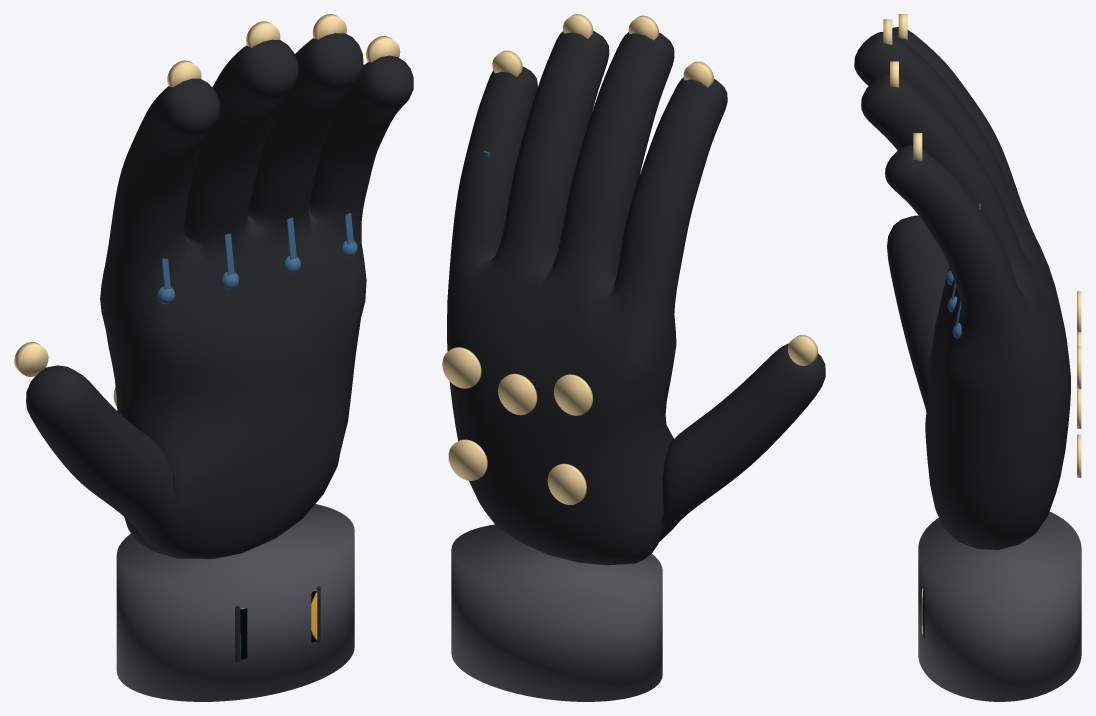
Rendered from LunaSense.glb.
3 views of the same model, side by side, from view 1: azimuth 30°, elevation 25°; view 2: azimuth 150°, elevation 25°; view 3: azimuth 270°, elevation 25° (orthographic). The views are drawn at different scales.
Parts seen in each view (by area): view 1: GloveShell, Cuff, Haptic4, HubScreen, Haptic3, Haptic0, Haptic2, Haptic1; view 2: GloveShell, Cuff, Pressure1, Pressure4, Pressure0, Pressure3, Pressure2, Haptic4, Haptic3; view 3: GloveShell, Cuff.
Part boxes in pixels (left/top/right/bottom): GloveShell: left=26, top=33, right=413, bottom=558; Cuff: left=116, top=504, right=354, bottom=701; Haptic4: left=14, top=342, right=48, bottom=376; HubScreen: left=240, top=590, right=317, bottom=659; Haptic3: left=366, top=36, right=400, bottom=62; Haptic0: left=167, top=60, right=201, bottom=87; Haptic2: left=312, top=14, right=346, bottom=39; Haptic1: left=246, top=21, right=280, bottom=47; GloveShell: left=447, top=31, right=825, bottom=565; Cuff: left=451, top=524, right=662, bottom=701; Pressure1: left=448, top=439, right=487, bottom=480; Pressure4: left=442, top=347, right=481, bottom=388; Pressure0: left=547, top=463, right=586, bottom=504; Pressure3: left=554, top=374, right=592, bottom=415; Pressure2: left=498, top=373, right=537, bottom=415; Haptic4: left=787, top=335, right=818, bottom=365; Haptic3: left=492, top=50, right=522, bottom=76; GloveShell: left=854, top=27, right=1070, bottom=549; Cuff: left=918, top=512, right=1081, bottom=701.
Size of the model in its own units: 0.1149 by 0.2 by 0.0667.
6 materials, 1 textured.
